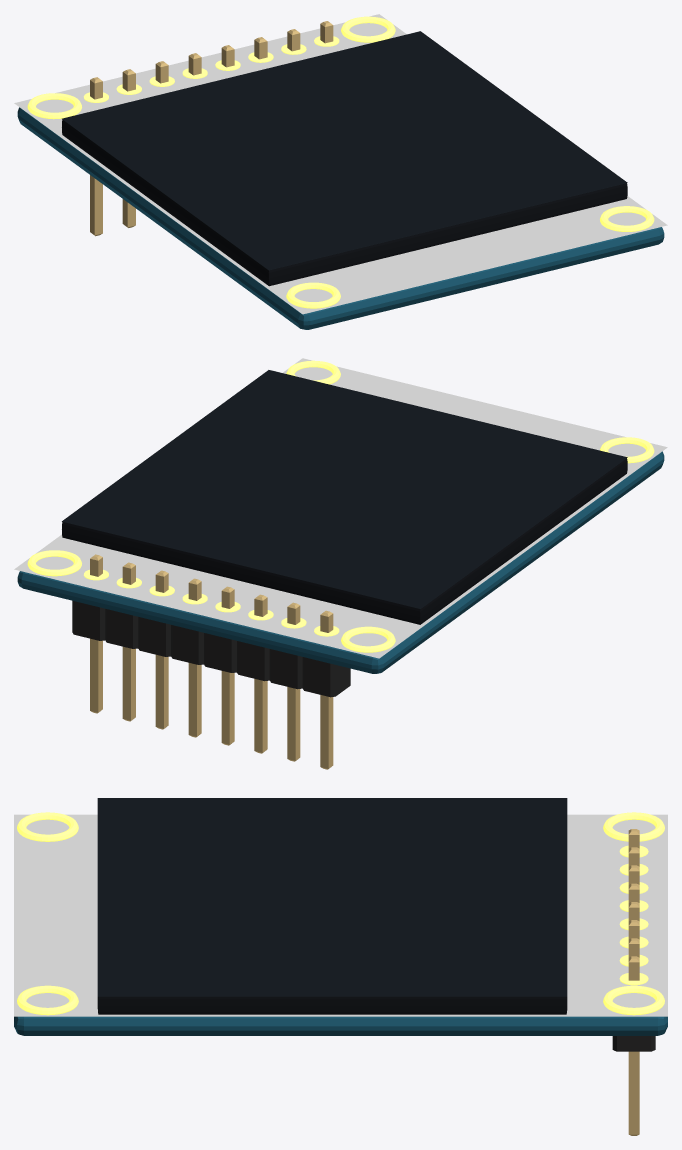
File: board-screen-pins.fbx
3 views of the same model, one above another, from view 1: azimuth 30°, elevation 25°; view 2: azimuth 150°, elevation 25°; view 3: azimuth 270°, elevation 25° (orthographic). The views are drawn at different scales.
Visible parts, largest first — view 1: SCREEN_ACTIVE.001, SCREEN_SILK_TEX, SCREEN_PCB.001, SCREEN_GLASS.001, SCREEN_PIN01, SCREEN_RING2.001, SCREEN_RING1.001, SCREEN_RING3.001, SCREEN_RING0.001, SCREEN_PIN02; view 2: SCREEN_ACTIVE.001, SCREEN_SILK_TEX, SCREEN_PCB.001, SCREEN_HEADER_BODY, SCREEN_GLASS.001, SCREEN_PIN06, SCREEN_PIN07, SCREEN_PIN03, SCREEN_PIN01, SCREEN_PIN02, SCREEN_PIN05, SCREEN_PIN04 (+4 smaller); view 3: SCREEN_ACTIVE.001, SCREEN_SILK_TEX, SCREEN_PCB.001, SCREEN_GLASS.001, SCREEN_PIN08, SCREEN_RING1.001, SCREEN_RING3.001, SCREEN_RING2.001, SCREEN_RING0.001, SCREEN_HEADER_BODY.
Part boxes in pixels (box(x1,y1,x2,y2)): SCREEN_ACTIVE.001: box(62, 31, 627, 270); SCREEN_SILK_TEX: box(14, 14, 667, 314); SCREEN_PCB.001: box(17, 107, 664, 329); SCREEN_GLASS.001: box(62, 119, 627, 286); SCREEN_PIN01: box(90, 77, 102, 236); SCREEN_RING2.001: box(286, 282, 340, 308); SCREEN_RING1.001: box(341, 16, 395, 42); SCREEN_RING3.001: box(600, 206, 654, 231); SCREEN_RING0.001: box(27, 93, 81, 119); SCREEN_PIN02: box(122, 69, 135, 227); SCREEN_ACTIVE.001: box(62, 370, 627, 609); SCREEN_SILK_TEX: box(14, 358, 667, 658); SCREEN_PCB.001: box(17, 451, 664, 673); SCREEN_HEADER_BODY: box(72, 600, 350, 697); SCREEN_GLASS.001: box(62, 458, 627, 624); SCREEN_PIN06: box(155, 570, 168, 729); SCREEN_PIN07: box(122, 562, 135, 721); SCREEN_PIN03: box(254, 594, 267, 753); SCREEN_PIN01: box(320, 610, 333, 769); SCREEN_PIN02: box(287, 602, 300, 761); SCREEN_PIN05: box(188, 578, 201, 737); SCREEN_PIN04: box(221, 586, 234, 745); SCREEN_ACTIVE.001: box(97, 798, 567, 996); SCREEN_SILK_TEX: box(14, 814, 667, 1016); SCREEN_PCB.001: box(14, 1016, 667, 1035); SCREEN_GLASS.001: box(97, 996, 567, 1014); SCREEN_PIN08: box(628, 956, 639, 1135); SCREEN_RING1.001: box(603, 985, 664, 1015); SCREEN_RING3.001: box(17, 985, 78, 1015); SCREEN_RING2.001: box(17, 812, 78, 841); SCREEN_RING0.001: box(603, 812, 664, 841); SCREEN_HEADER_BODY: box(612, 1036, 655, 1051).
Bounding box in the file's own units: 2820 × 1154 × 3860.
